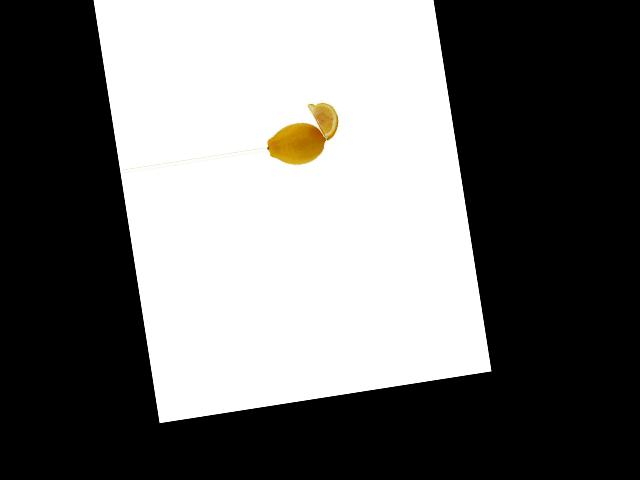lemon: (262, 116, 331, 171)
